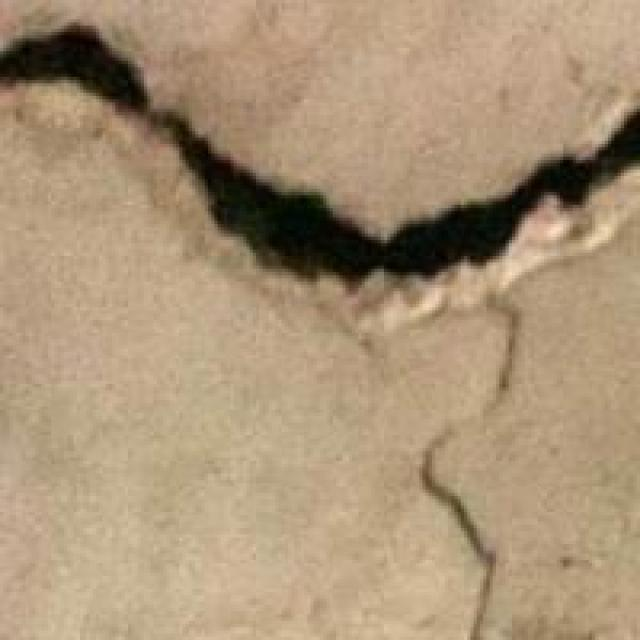crack: (0, 0, 637, 445)
